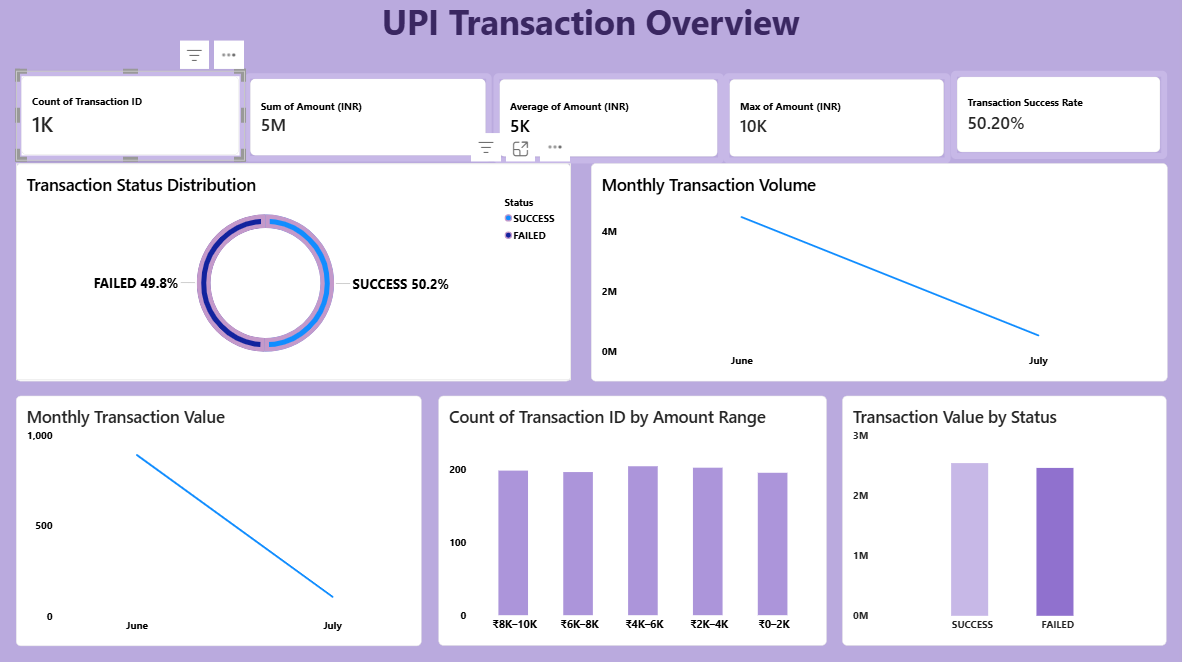

What the dashboard file says about the page in this screenshot:
{"tool":"powerbi","page":{"name":"Page 1","canvas":[1920,1080],"ordinal":0},"visuals":[{"type":"cardVisual","fields":{"Data":["Sum(Transaction_Cleaned.Amount (INR))"]},"box":[401.3,122.1,398.3,142.5],"z":0},{"type":"cardVisual","fields":{"Data":["CountNonNull(Transaction_Cleaned.Transaction ID)"]},"box":[32,119.2,369.3,145.4],"z":1000},{"type":"cardVisual","fields":{"Data":["Avg(Transaction_Cleaned.Amount (INR))"]},"box":[802.5,122.1,372.2,145.4],"z":2000},{"type":"cardVisual","fields":{"Data":["Max(Transaction_Cleaned.Amount (INR))"]},"box":[1174.7,122.1,366.4,145.4],"z":3000},{"type":"cardVisual","fields":{"Data":["Transaction_Cleaned.Transaction Success Rate"]},"box":[1541.1,119.2,348.9,142.5],"z":4000},{"type":"donutChart","title":"Transaction Status Distribution","fields":{"Category":["Transaction_Cleaned.Status"],"Y":["CountNonNull(Transaction_Cleaned.Transaction ID)"]},"box":[32,267.5,895.6,351.8],"z":5000},{"type":"lineChart","title":"Monthly Transaction Value","fields":{"Category":["Transaction_Cleaned.Timestamp.Variation.Date Hierarchy.Month"],"Y":["CountNonNull(Transaction_Cleaned.Transaction ID)"]},"box":[32,642.6,654.2,404.2],"z":6000},{"type":"lineChart","title":"Monthly Transaction Volume","fields":{"Category":["Transaction_Cleaned.Timestamp.Variation.Date Hierarchy.Month"],"Y":["Sum(Transaction_Cleaned.Amount (INR))"]},"box":[959.5,267.5,930.4,351.8],"z":7000},{"type":"clusteredColumnChart","fields":{"Y":["CountNonNull(Transaction_Cleaned.Transaction ID)"],"Category":["Transaction_Cleaned.Amount Range"]},"box":[713.3,643.3,626.7,403.3],"z":8000},{"type":"clusteredColumnChart","title":"Transaction Value by Status","fields":{"Category":["Transaction_Cleaned.Status"],"Y":["Sum(Transaction_Cleaned.Amount (INR))"]},"box":[1366.7,643.3,523.3,403.3],"z":9000},{"type":"textbox","box":[0,0,1919,90.1],"z":10000}]}

Visuals, with their boxes in screenshot pixels (x1, y1, x2, y2), scaled from the page's 1920x1080 canvas onto the 1182x662 screenshot:
cardVisual - Sum(Transaction_Cleaned.Amount (INR)): l=247, t=75, r=492, b=162
cardVisual - CountNonNull(Transaction_Cleaned.Transaction ID): l=20, t=73, r=247, b=162
cardVisual - Avg(Transaction_Cleaned.Amount (INR)): l=494, t=75, r=723, b=164
cardVisual - Max(Transaction_Cleaned.Amount (INR)): l=723, t=75, r=949, b=164
cardVisual - Transaction_Cleaned.Transaction Success Rate: l=949, t=73, r=1164, b=160
"Transaction Status Distribution" donutChart: l=20, t=164, r=571, b=380
"Monthly Transaction Value" lineChart: l=20, t=394, r=422, b=642
"Monthly Transaction Volume" lineChart: l=591, t=164, r=1163, b=380
clusteredColumnChart - CountNonNull(Transaction_Cleaned.Transaction ID) x Transaction_Cleaned.Amount Range: l=439, t=394, r=825, b=642
"Transaction Value by Status" clusteredColumnChart: l=841, t=394, r=1164, b=642
textbox: l=0, t=0, r=1181, b=55
